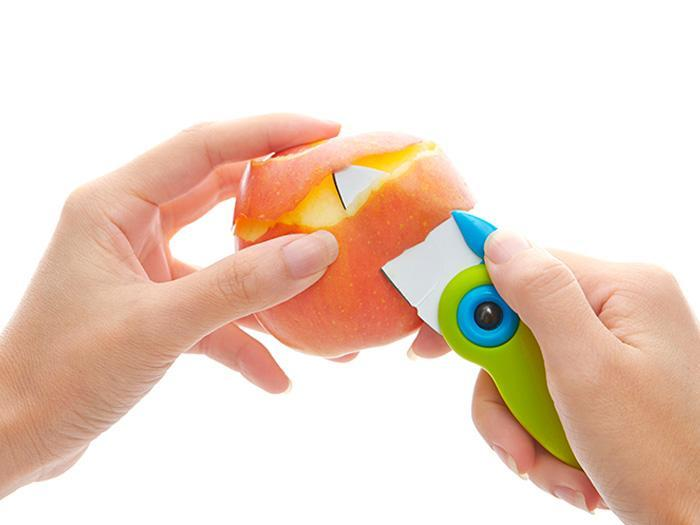apple: (233, 129, 475, 357)
